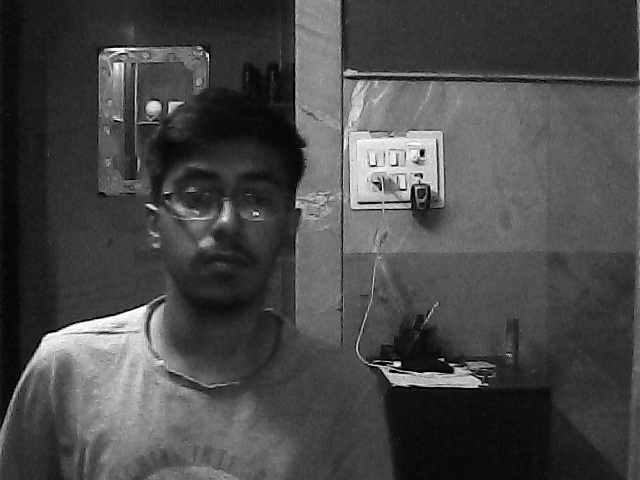nomask: (156, 134, 299, 313)
